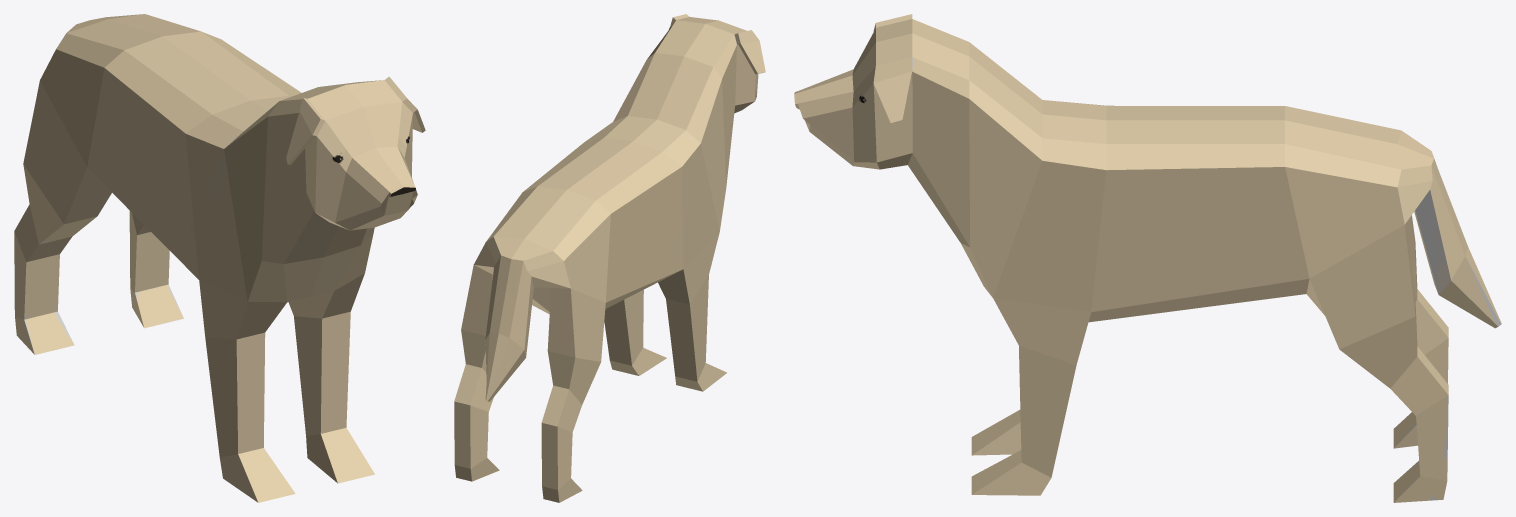
The model's file is dog.fbx.
3 views of the same model, side by side, from view 1: azimuth 30°, elevation 25°; view 2: azimuth 150°, elevation 25°; view 3: azimuth 270°, elevation 25° (orthographic). The views are drawn at different scales.
Parts seen in each view (by area): view 1: Cube; view 2: Cube; view 3: Cube.
Boxes of the visible parts, left/top/right/bottom form: Cube: left=14, top=14, right=425, bottom=502; Cube: left=454, top=14, right=765, bottom=502; Cube: left=794, top=14, right=1501, bottom=502.
Size of the model in its own units: 53.84 by 215 by 145.
1 material, 1 textured.
